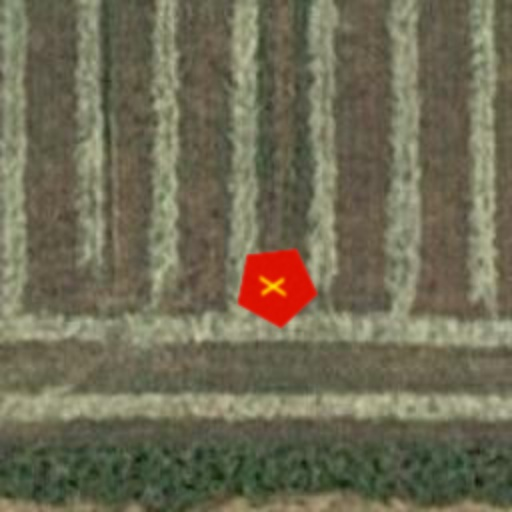pentagon: (228, 238, 324, 334)
